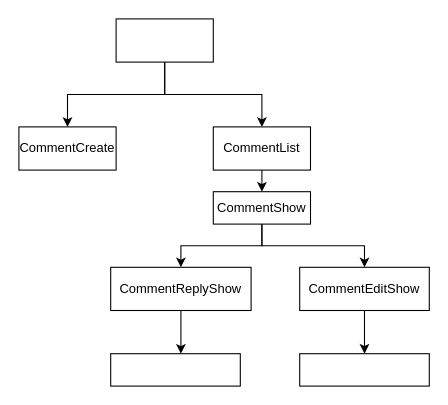
The diagram is 448 pixels wide and 405 high, and some of its shapes have lost their labels. The centre of each missing label's shape, as x and y in pixels:
App: the point at 164,40
CommentEdit: the point at 364,369
CommentReply: the point at 175,369
